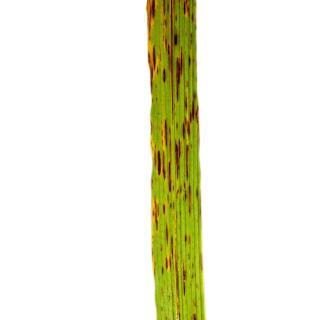Bercak-Cokelat-Sempit: (164, 232, 199, 320), (160, 0, 188, 98), (144, 119, 180, 191), (182, 92, 199, 178), (146, 45, 160, 96), (142, 0, 157, 38), (152, 200, 166, 230)
